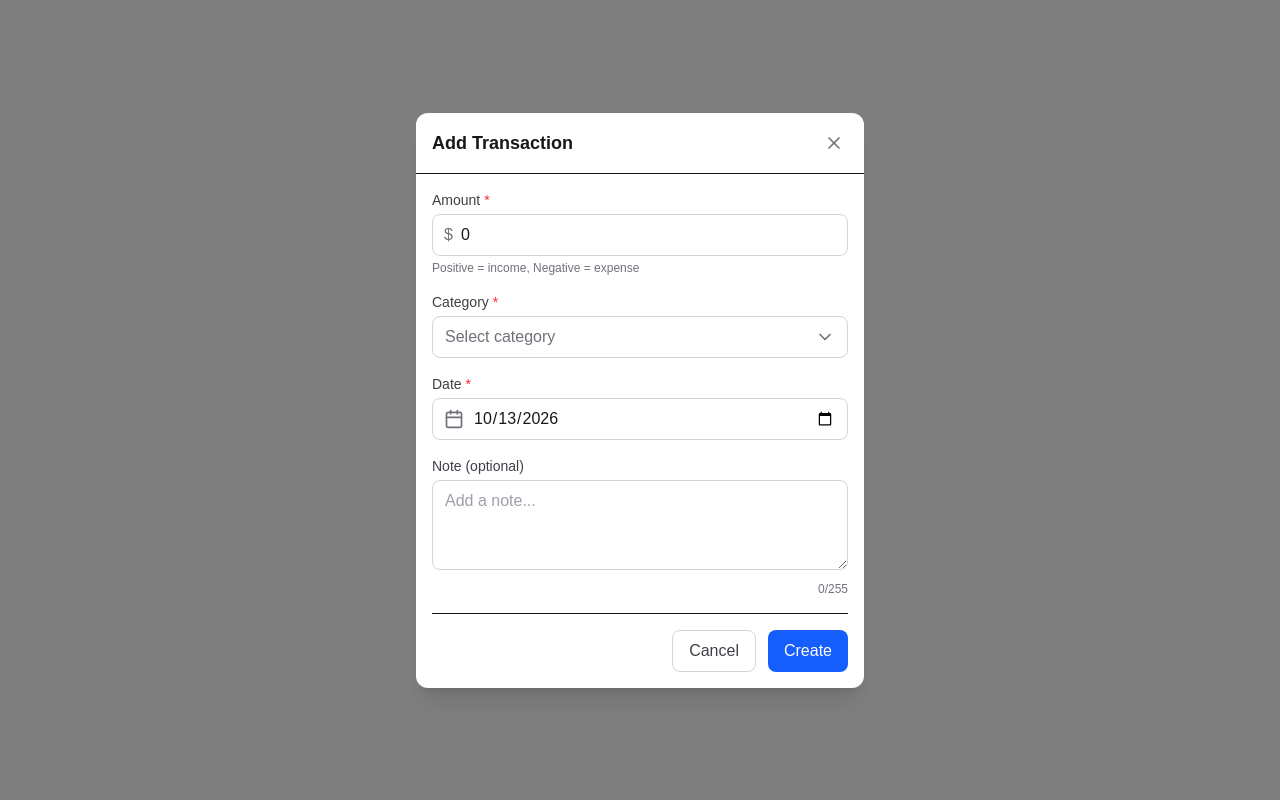
Test case: TransactionForm › shows validation error for empty amount
Click the button "Create".
click(808, 650)  # box [768, 630, 848, 672]
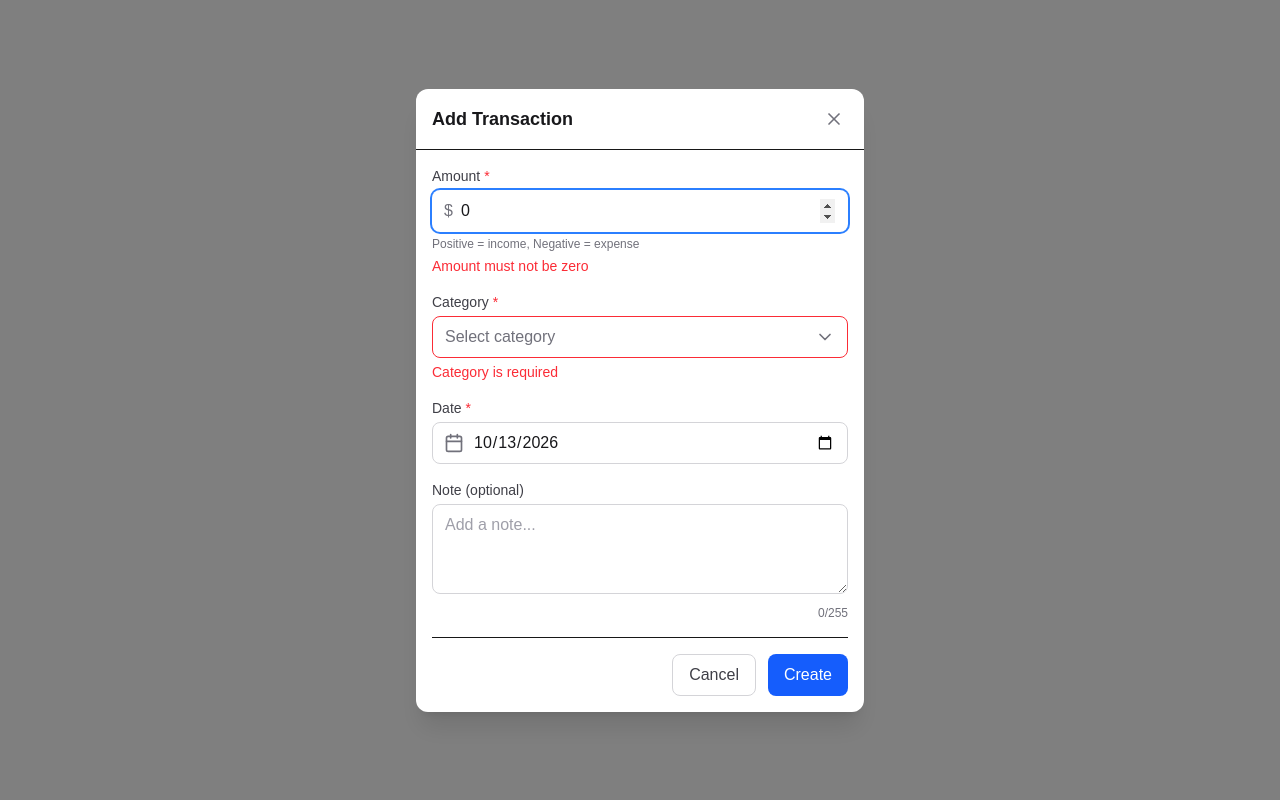
Expected: the text "Amount must not be zero" is shown, [432, 258, 588, 274]
